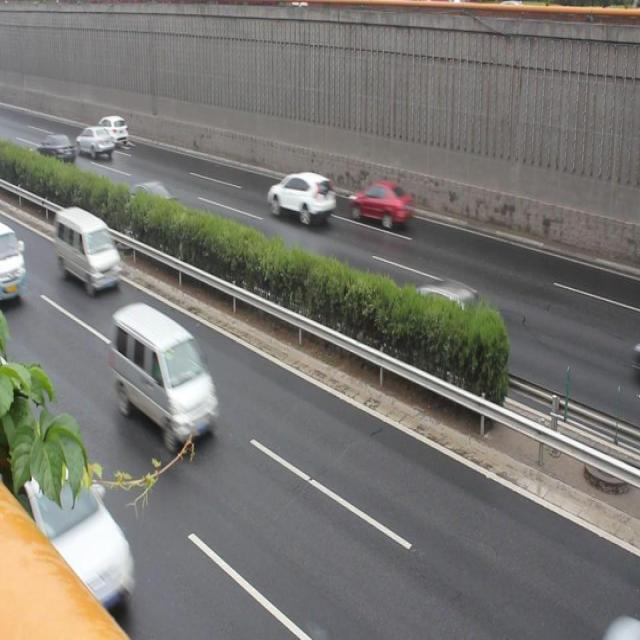car: (13, 441, 143, 614), (407, 272, 499, 347), (263, 171, 335, 230), (348, 177, 411, 234), (132, 173, 178, 225), (39, 130, 76, 169), (95, 112, 131, 149), (76, 123, 111, 161)
truck: (110, 304, 223, 444), (53, 206, 122, 290)
